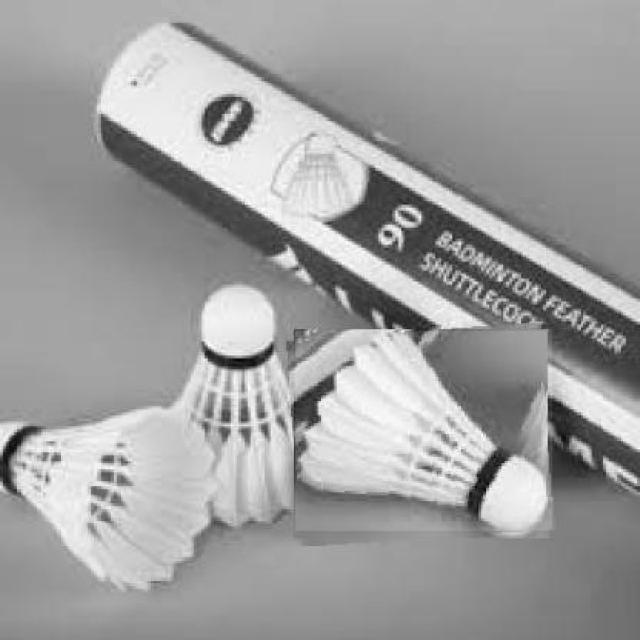Shuttlecock: (295, 330, 551, 529)
